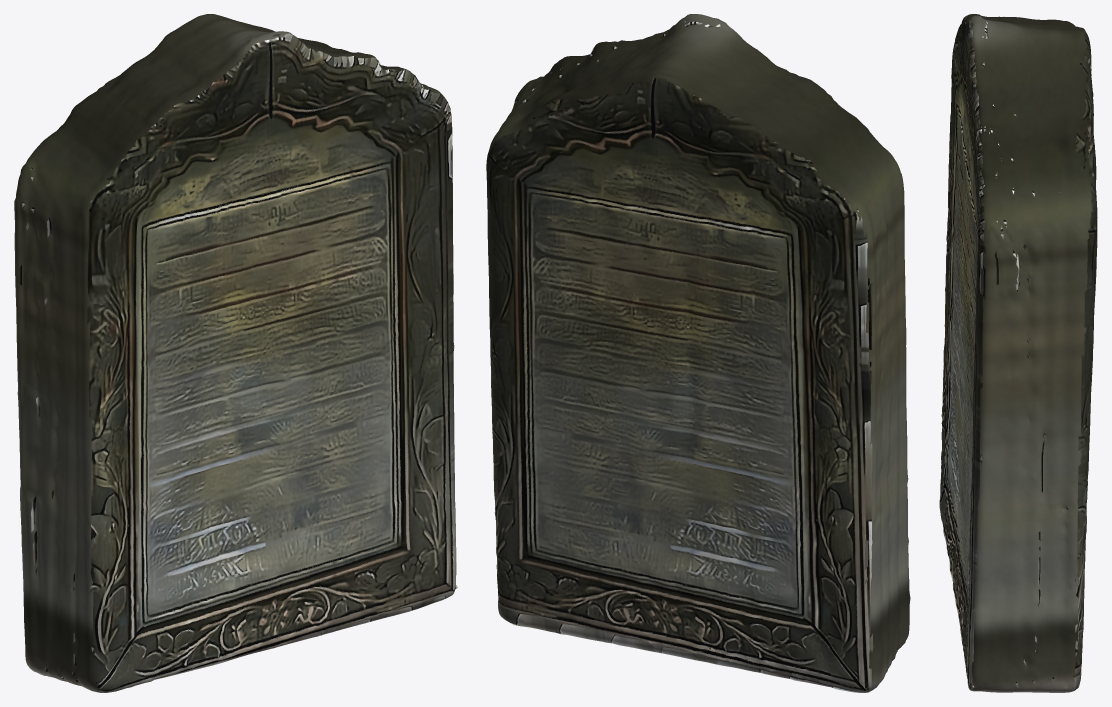
The model's file is kfl-2189.glb.
3 views of the same model, side by side, from view 1: azimuth 30°, elevation 25°; view 2: azimuth 150°, elevation 25°; view 3: azimuth 270°, elevation 25° (orthographic). The views are drawn at different scales.
Visible parts, largest first — view 1: kfl-2189; view 2: kfl-2189; view 3: kfl-2189.
Boxes of the visible parts, x1,y1,x2,y2 form: kfl-2189: (14,14,457,692); kfl-2189: (486,14,910,692); kfl-2189: (939,14,1097,692).
Bounding box in the file's own units: 0.6769 × 0.9981 × 0.2382.
Materials: 4 (4 with a texture image).
